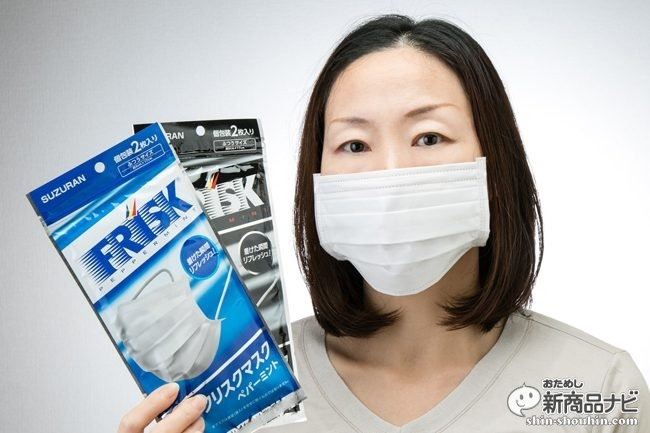mask: (309, 182, 483, 273)
